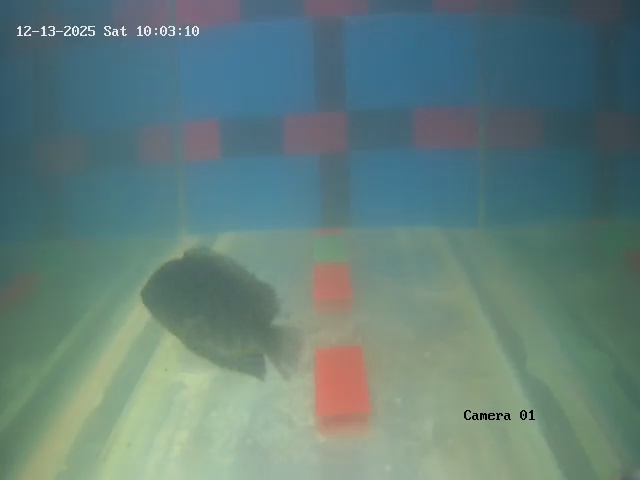fish: (140, 248, 274, 375)
